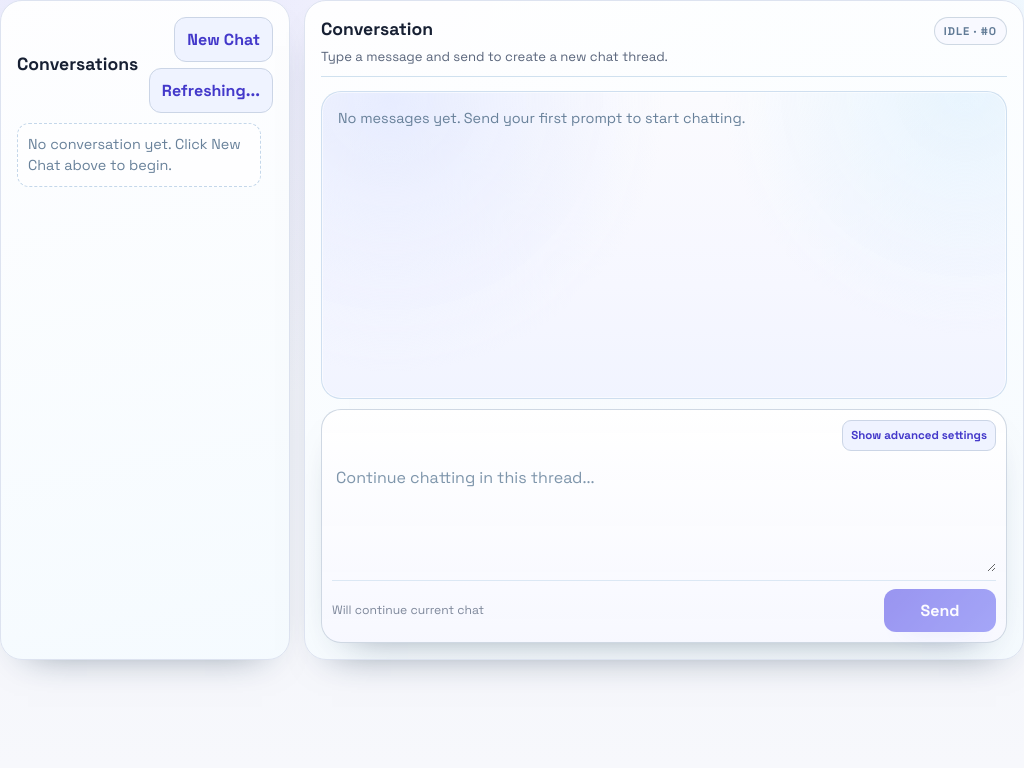
it: ClientChatPanel › expands and collapses advanced settings
Click the button "Show advanced settings" at (919, 435), box [842,420,996,451]
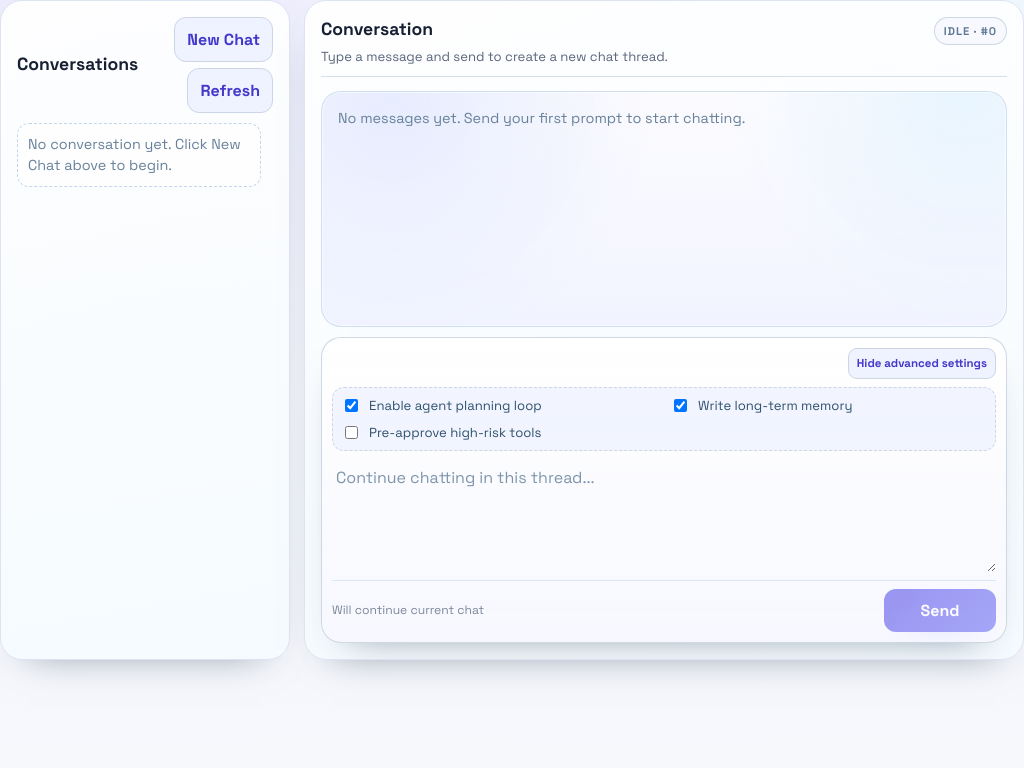
Result: the text "Enable agent planning loop" is shown at [345,397,542,414]
Click the button "Hide advanced settings" at (922, 363), box [848,348,996,379]
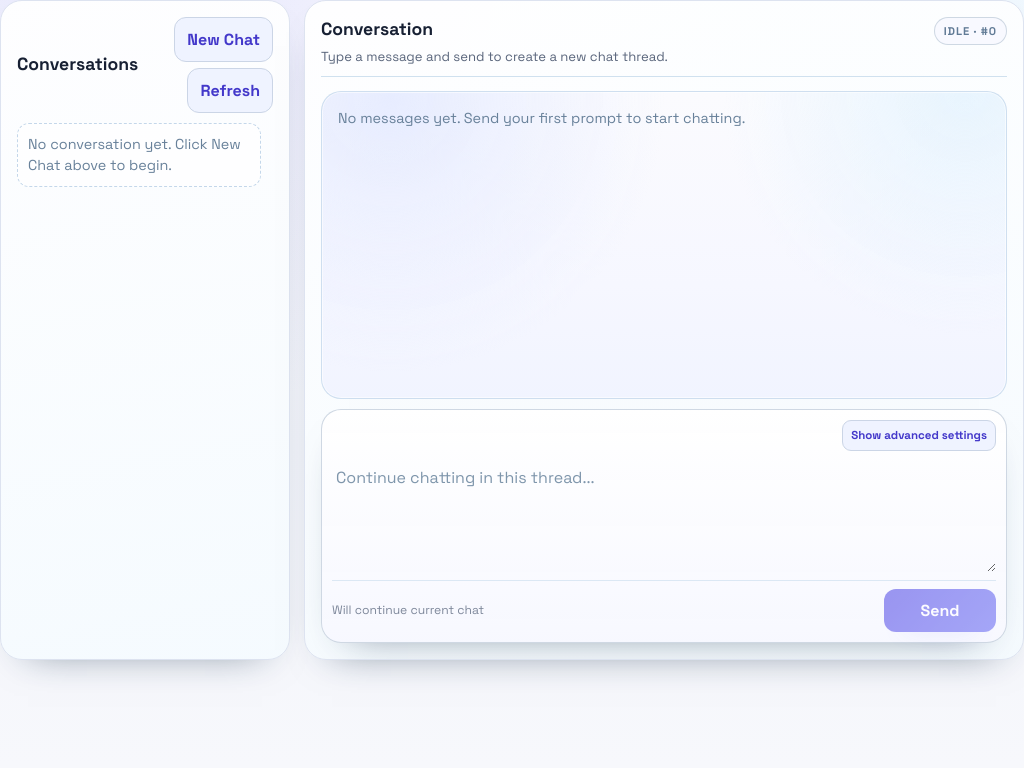
Result: the text "Enable agent planning loop" is gone
